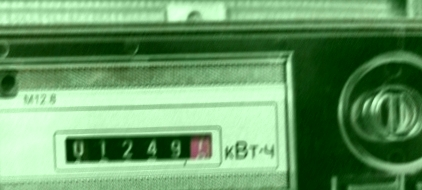0: (70, 137, 83, 157)
1: (95, 137, 105, 156)
2: (119, 138, 132, 158)
4: (144, 137, 155, 156)
7: (192, 133, 204, 152)
9: (167, 137, 180, 158)
screen: (44, 123, 219, 171)
